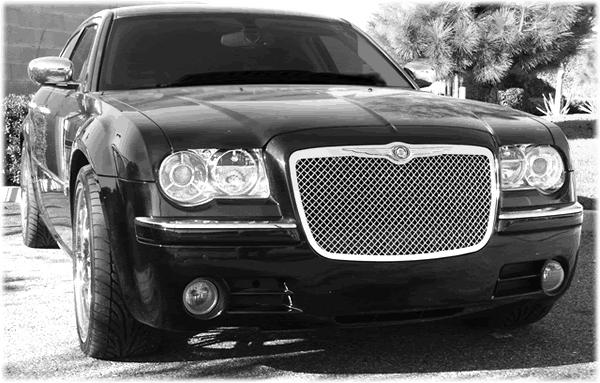car: (19, 5, 587, 359)
